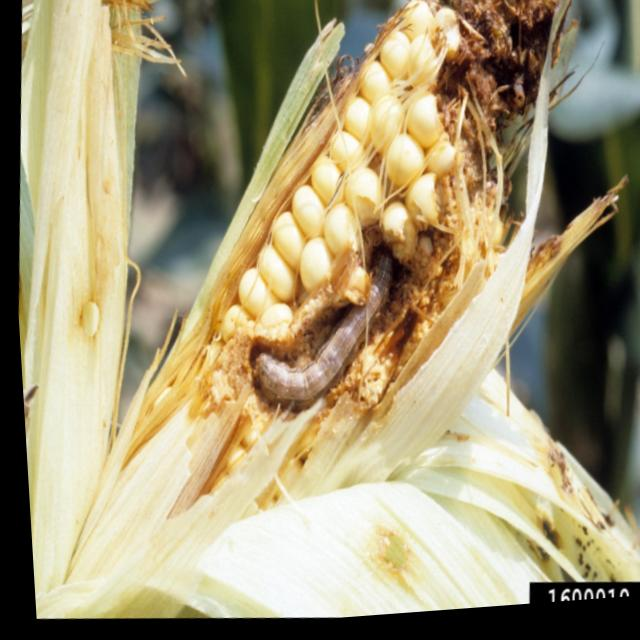Fall-Armyworm: (238, 275, 388, 426)
